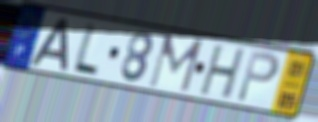8: (120, 31, 154, 84)
A: (28, 16, 70, 73)
H: (197, 44, 248, 102)
L: (70, 21, 101, 79)
M: (146, 33, 206, 95)
P: (234, 48, 282, 105)
